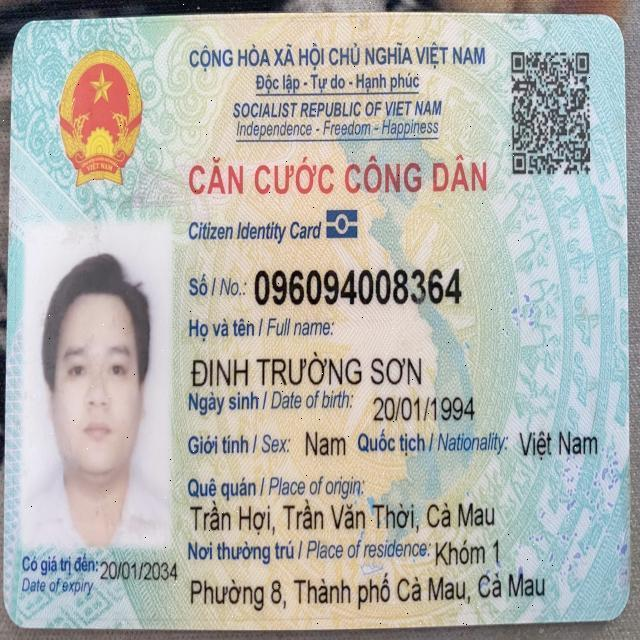current_place: (188, 565, 549, 611), (431, 537, 501, 568)
dob: (370, 392, 479, 428)
expire_date: (99, 557, 180, 586)
gender: (302, 426, 349, 462)
id: (250, 261, 465, 314)
name: (187, 348, 424, 390)
nationality: (515, 425, 607, 462)
origin_place: (184, 499, 498, 536)
